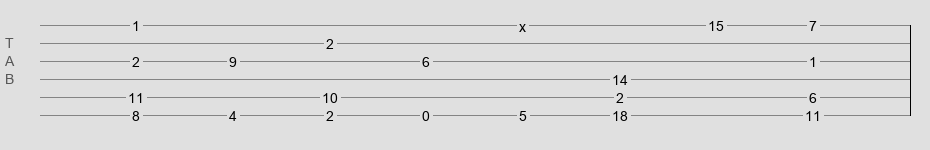0: (422, 108, 430, 118)
1: (132, 18, 140, 28), (809, 54, 817, 64)
10: (322, 90, 338, 100)
11: (128, 90, 144, 100), (805, 108, 821, 118)
14: (612, 72, 628, 82)
15: (708, 18, 724, 28)
18: (612, 108, 628, 118)
2: (132, 54, 140, 64), (326, 108, 334, 118), (326, 36, 334, 46), (616, 90, 624, 100)
4: (229, 108, 237, 118)
5: (519, 108, 527, 118)
6: (422, 54, 430, 64), (809, 90, 817, 100)
7: (809, 18, 817, 28)
8: (132, 108, 140, 118)
9: (229, 54, 237, 64)
x: (519, 19, 526, 27)
